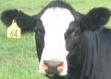muzzles: (37, 58, 68, 78)
